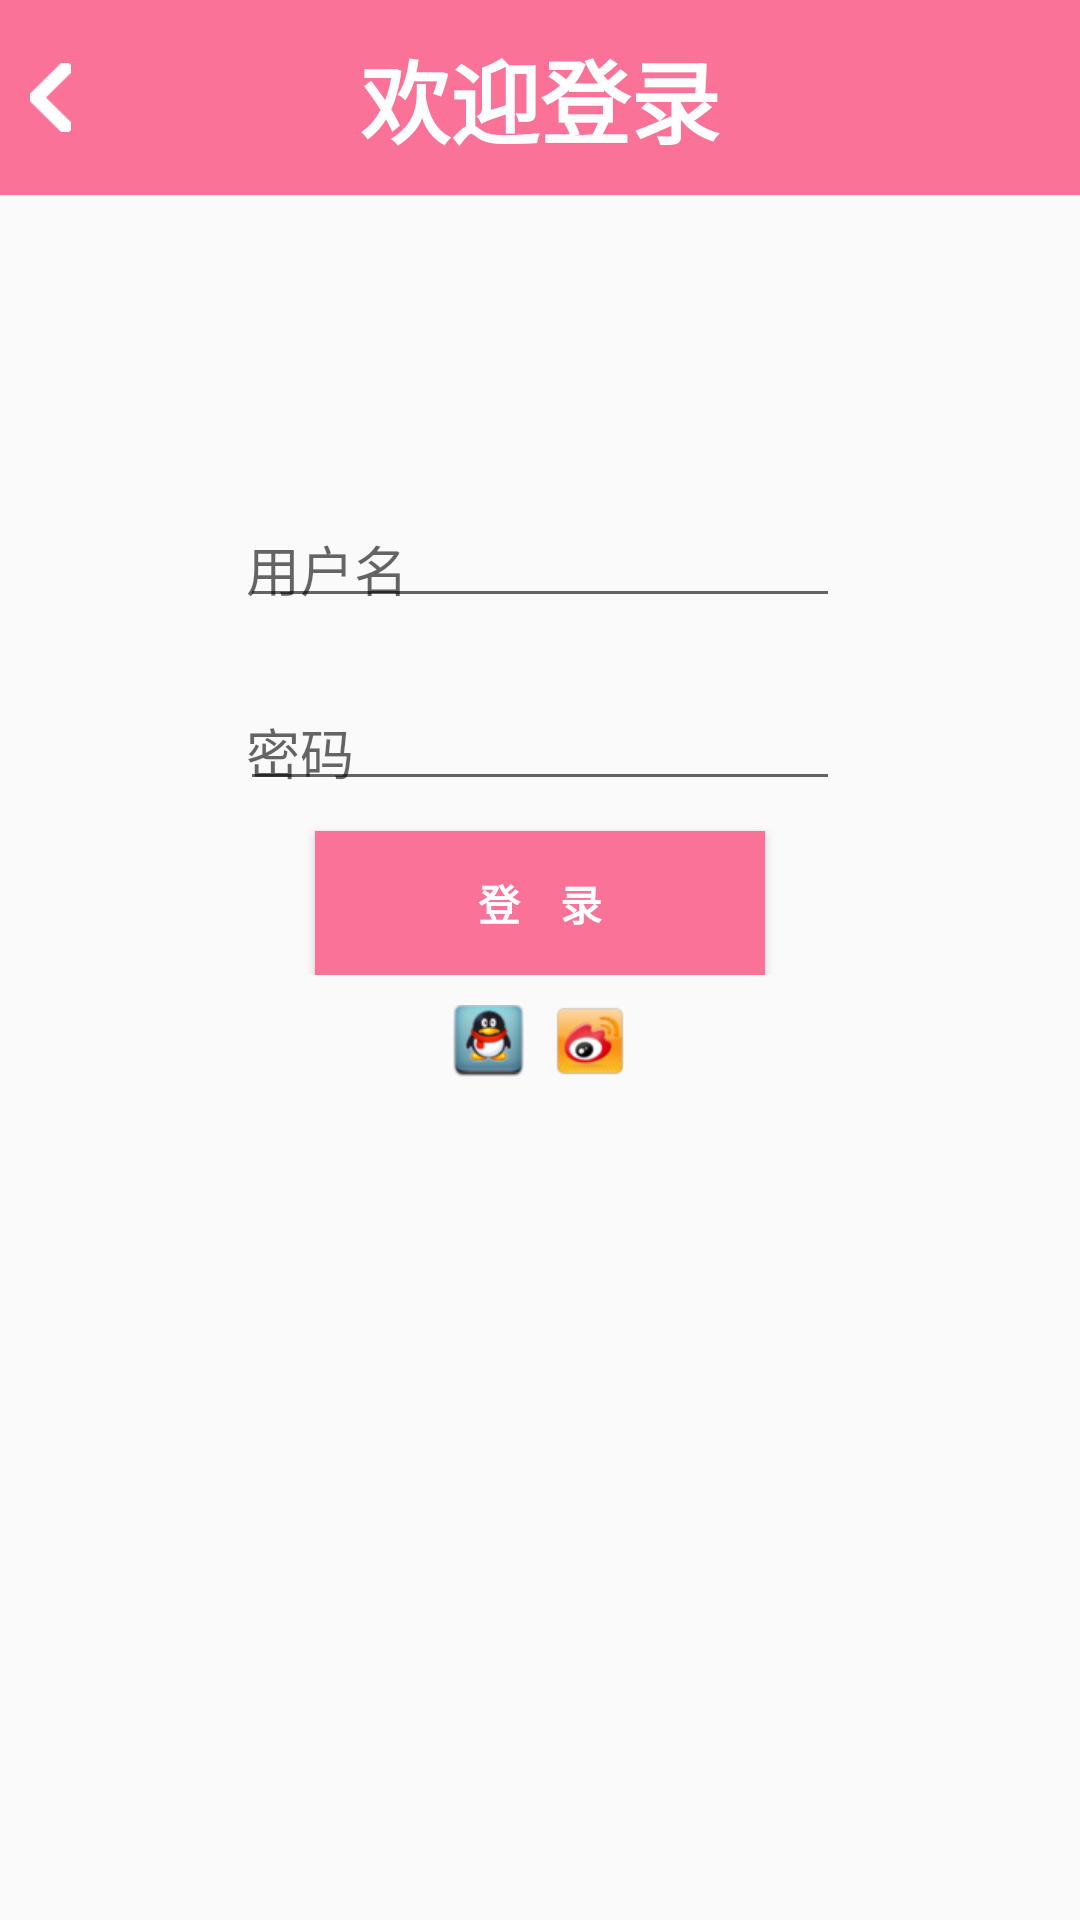

Icon bounding boxes for this 1080 x 1920 phone screenshot, format detection(x1, y1, x2, y2):
fanhui: detection(30, 63, 71, 132)
